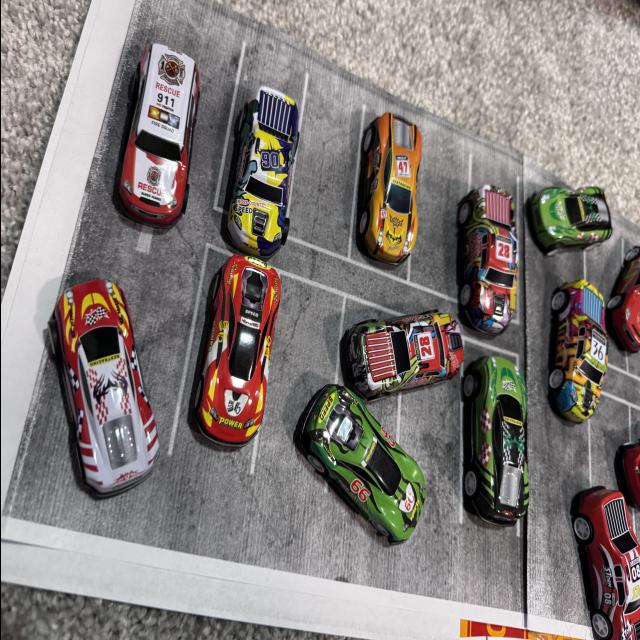car: (62, 37, 192, 281), (173, 256, 310, 484), (266, 389, 442, 534), (54, 258, 166, 468), (340, 58, 448, 270), (298, 284, 478, 406), (216, 78, 315, 274), (517, 275, 611, 466), (462, 321, 550, 517), (565, 490, 640, 636), (462, 160, 522, 342), (500, 182, 618, 255)
